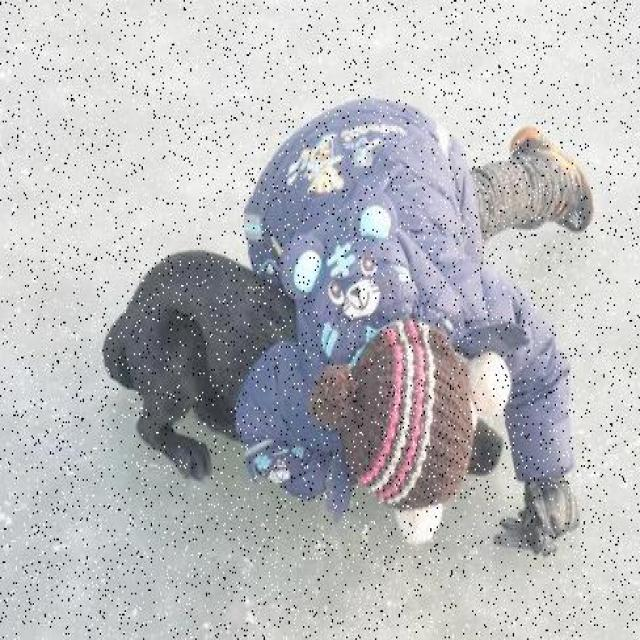fall: (292, 104, 592, 504)
